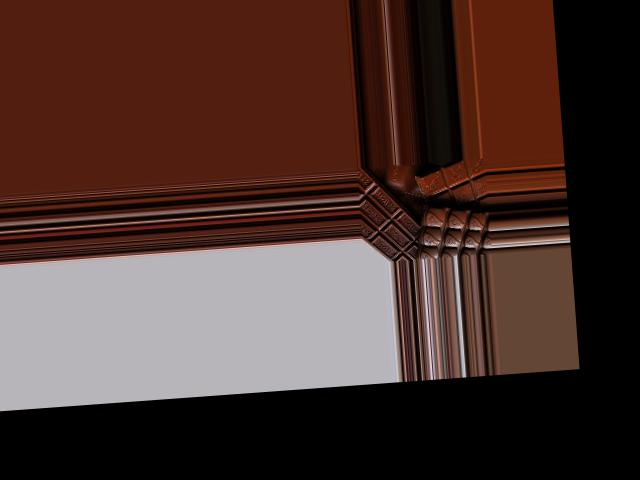chocolate: (415, 163, 490, 224)
